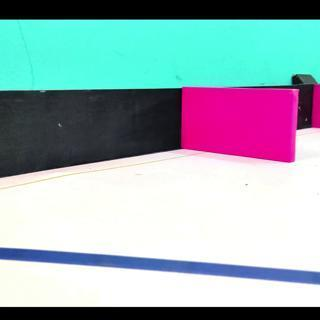xparking: (184, 94, 294, 157)
